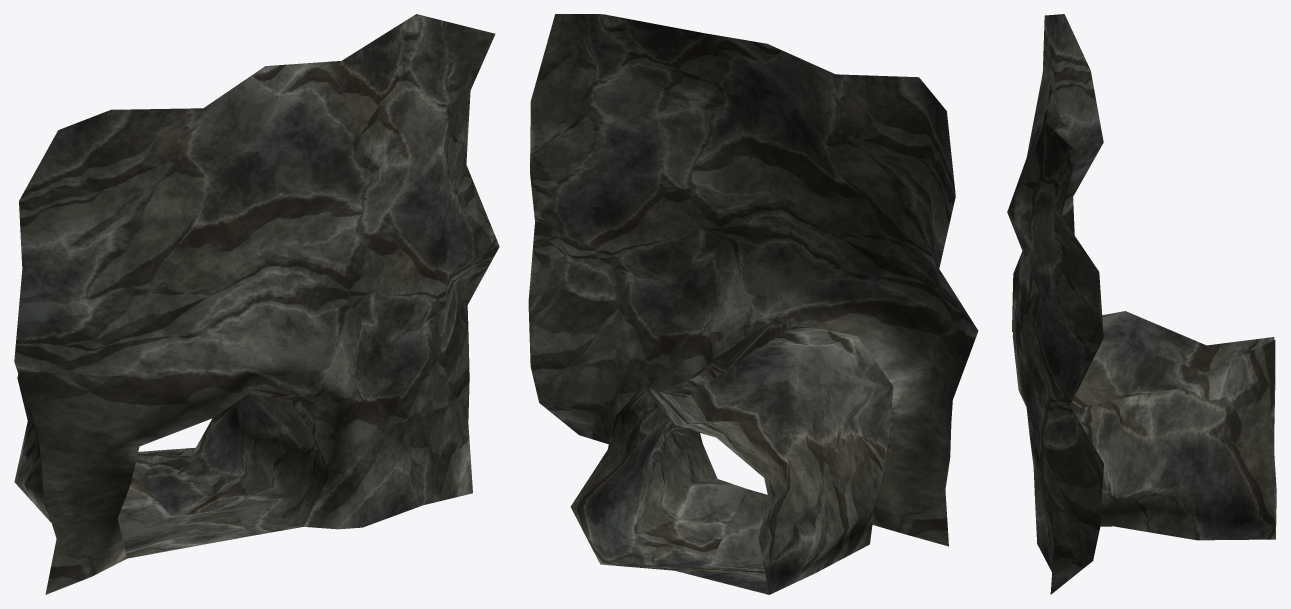
The model's file is CrawlEntranceB.fbx.
The picture shows the model from 3 angles, left to right: view 1: azimuth 30°, elevation 25°; view 2: azimuth 150°, elevation 25°; view 3: azimuth 270°, elevation 25°; orthographic projection. The views are drawn at different scales.
Visible parts, largest first — view 1: CrawlEntranceB; view 2: CrawlEntranceB; view 3: CrawlEntranceB.
Part boxes in pixels (box(x1,y1,x2,y2)): CrawlEntranceB: box(14, 14, 499, 594); CrawlEntranceB: box(528, 14, 978, 594); CrawlEntranceB: box(1007, 14, 1276, 594).
Size of the model in its own units: 4.73 by 4.73 by 2.58.
